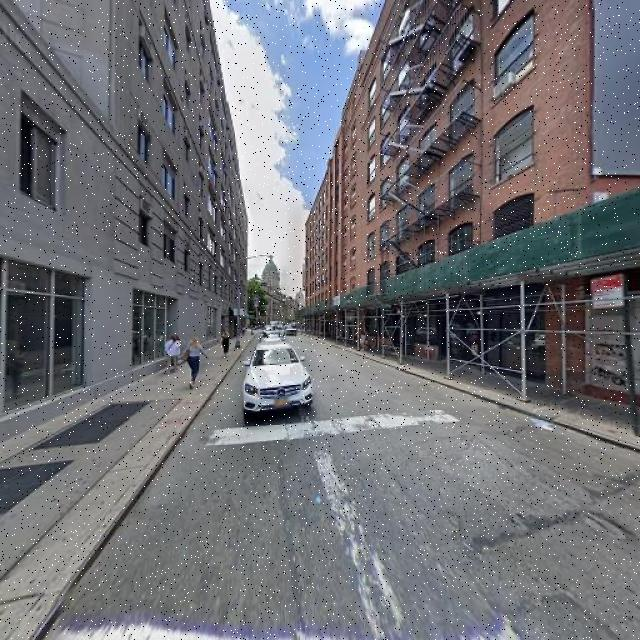Building: (307, 1, 640, 389), (1, 1, 248, 445)
